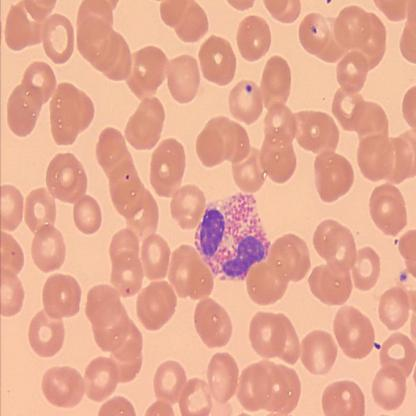Eosinophil: (195, 191, 270, 282)
